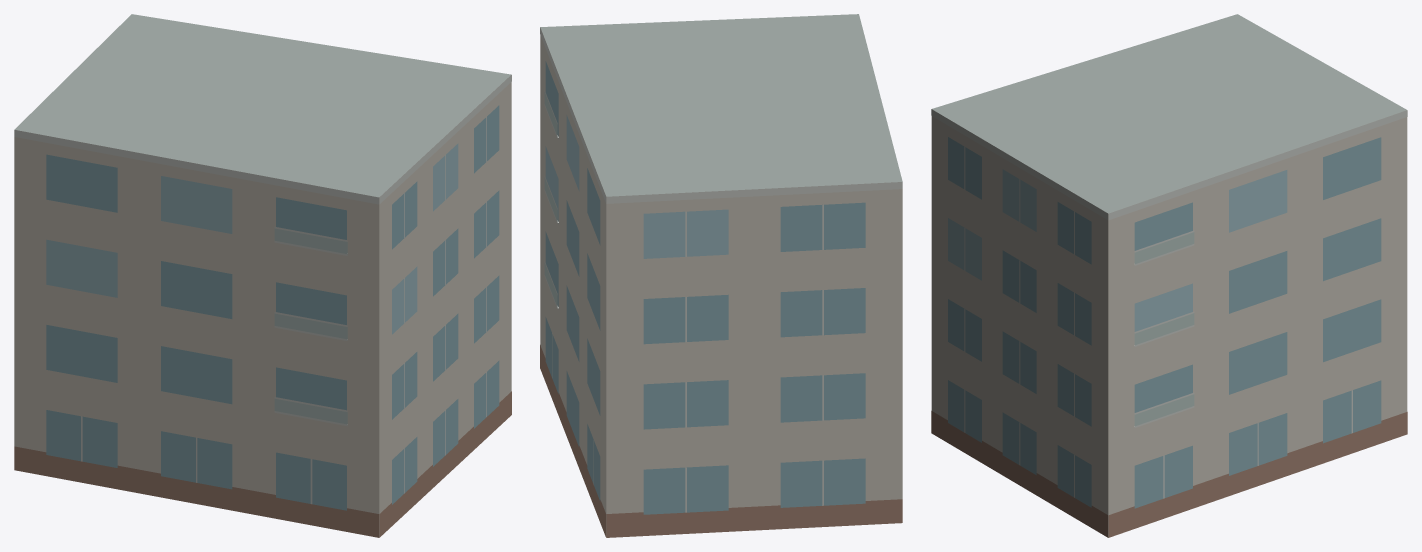
The model's file is survey-upis-32583215.glb.
3 views of the same model, side by side, from view 1: azimuth 30°, elevation 25°; view 2: azimuth 150°, elevation 25°; view 3: azimuth 270°, elevation 25° (orthographic). The views are drawn at different scales.
Visible parts, largest first — view 1: survey-upis-32583215.tmp; view 2: survey-upis-32583215.tmp; view 3: survey-upis-32583215.tmp.
Boxes of the visible parts, bbox=[...] form: survey-upis-32583215.tmp: bbox=[14, 14, 511, 537]; survey-upis-32583215.tmp: bbox=[540, 14, 902, 537]; survey-upis-32583215.tmp: bbox=[931, 14, 1407, 537].
Bounding box in the file's own units: 15.46 × 11.7 × 15.58.
